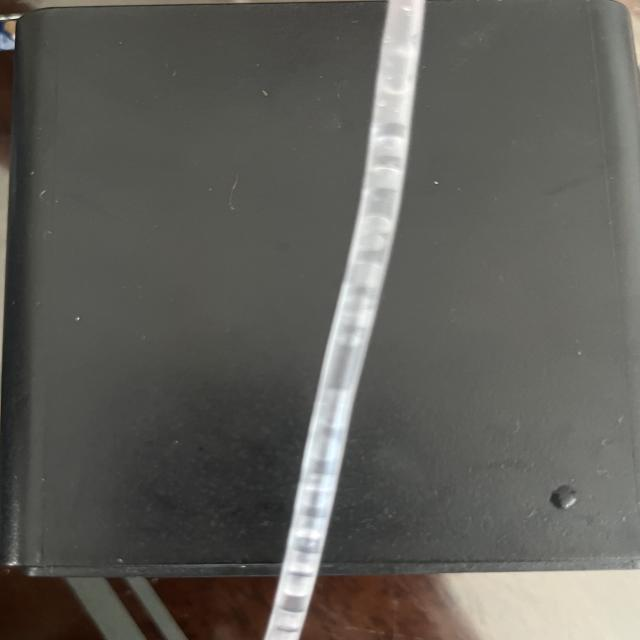bubble: (287, 463, 346, 532), (304, 376, 363, 438), (338, 163, 426, 200), (333, 212, 396, 260), (356, 125, 414, 158)
